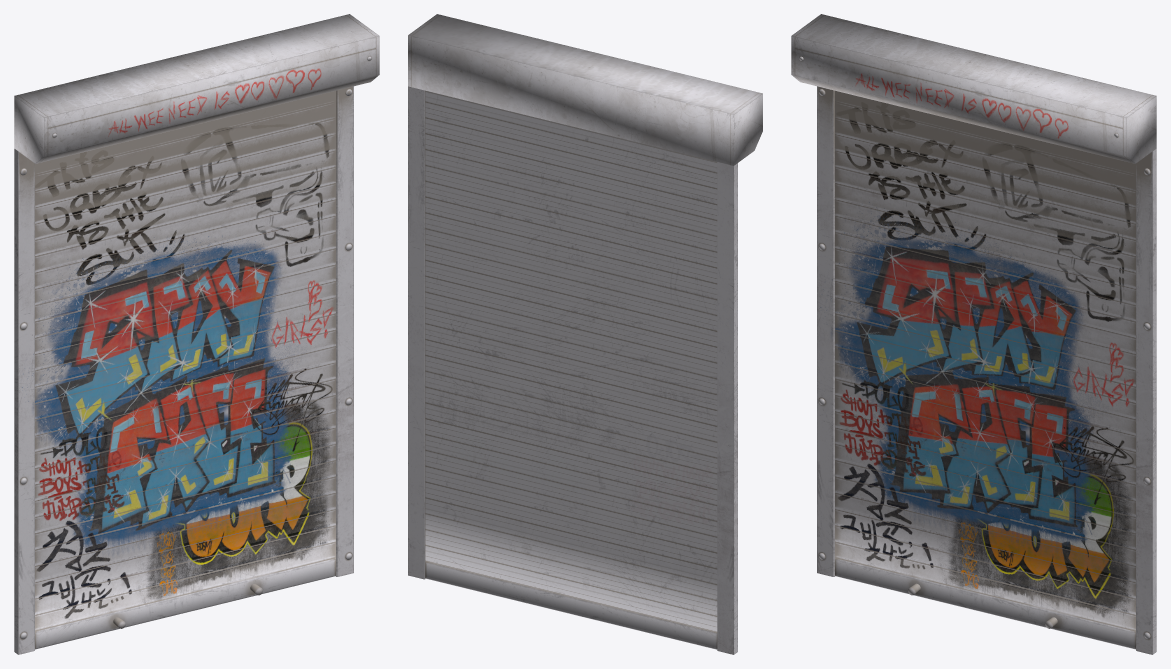
Rendered from rollershutter_window_03_1k.glb.
The picture shows the model from 3 angles, left to right: view 1: azimuth 30°, elevation 25°; view 2: azimuth 150°, elevation 25°; view 3: azimuth 330°, elevation 25°; orthographic projection. The views are drawn at different scales.
Visible parts, largest first — view 1: rollershutter_window_03_graffiti; view 2: rollershutter_window_03_graffiti; view 3: rollershutter_window_03_graffiti.
Part boxes in pixels (left/top/right/bottom): rollershutter_window_03_graffiti: left=14, top=14, right=379, bottom=654; rollershutter_window_03_graffiti: left=408, top=14, right=762, bottom=654; rollershutter_window_03_graffiti: left=791, top=14, right=1156, bottom=654.
Size of the model in its own units: 0.9763 by 1.55 by 0.1531.
Materials: 1 (1 with a texture image).
